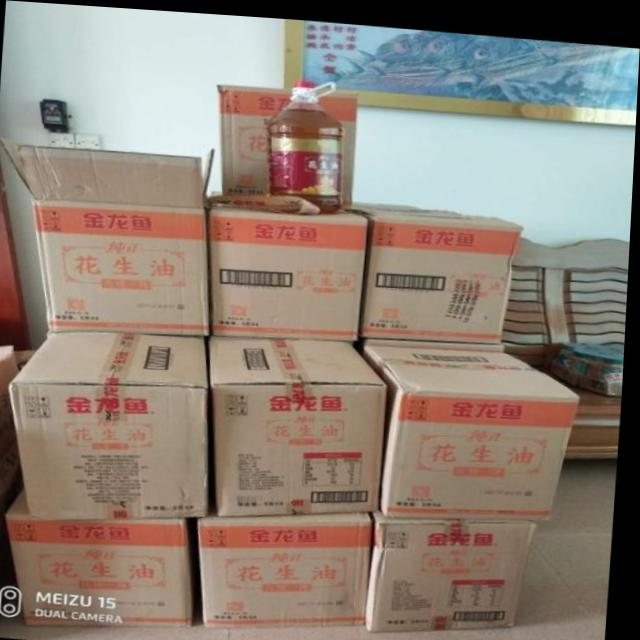box: (1, 138, 214, 332), (13, 330, 215, 519), (367, 340, 584, 514), (212, 334, 392, 511), (10, 488, 199, 625), (212, 188, 371, 335), (352, 202, 524, 337), (203, 498, 379, 625), (373, 506, 539, 626), (219, 81, 291, 191), (320, 86, 359, 198), (0, 443, 30, 552), (0, 344, 24, 466), (0, 541, 21, 636), (370, 332, 508, 344), (356, 195, 428, 204)
